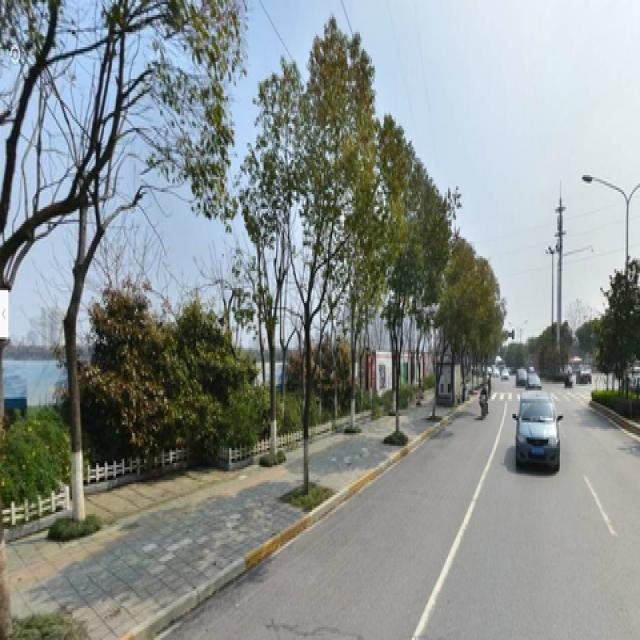cinn: (271, 53, 372, 461)
